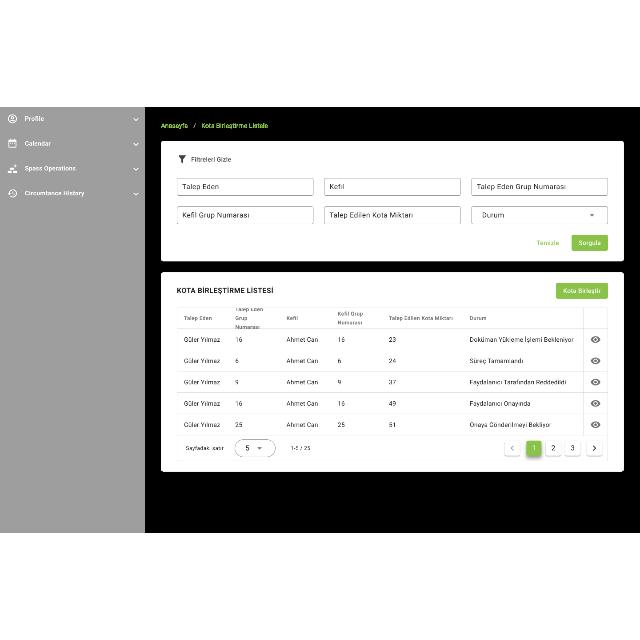QLabel: (173, 285, 274, 295), (560, 286, 604, 296), (190, 154, 232, 164), (576, 240, 604, 248), (538, 238, 560, 248)
QMenu: (0, 107, 144, 533)
VBreadcrumbs: (156, 121, 274, 133)
VBtn: (555, 282, 609, 300), (571, 234, 609, 252)
VCard: (160, 272, 626, 474), (160, 139, 626, 263)
VCombobox: (472, 207, 608, 226)
VDataTable: (176, 306, 610, 464)
VIcon: (177, 154, 187, 164)
VTextField: (176, 177, 314, 197), (176, 207, 314, 226), (323, 178, 461, 196), (324, 206, 461, 224), (472, 178, 608, 196)
